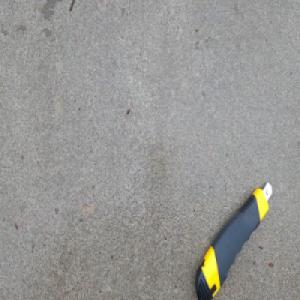Cutter: (192, 176, 273, 298)
